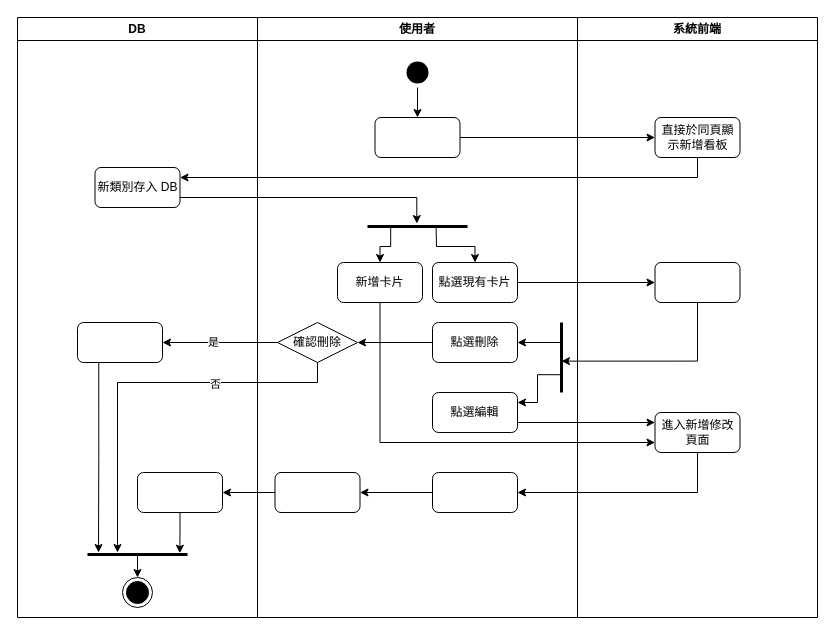
Image size: 835x635. Some labels were removed from this diagram. Each missing label, with the centre of its shape:
Insert / Update至 DB: pixel 179 492
下方延展任務內容: pixel 697 282
儲存: pixel 317 492
新增投資類別: pixel 417 137
移除任務 (直接移除 DB 內容): pixel 119 342
輸入 / 修改內容: pixel 475 492
